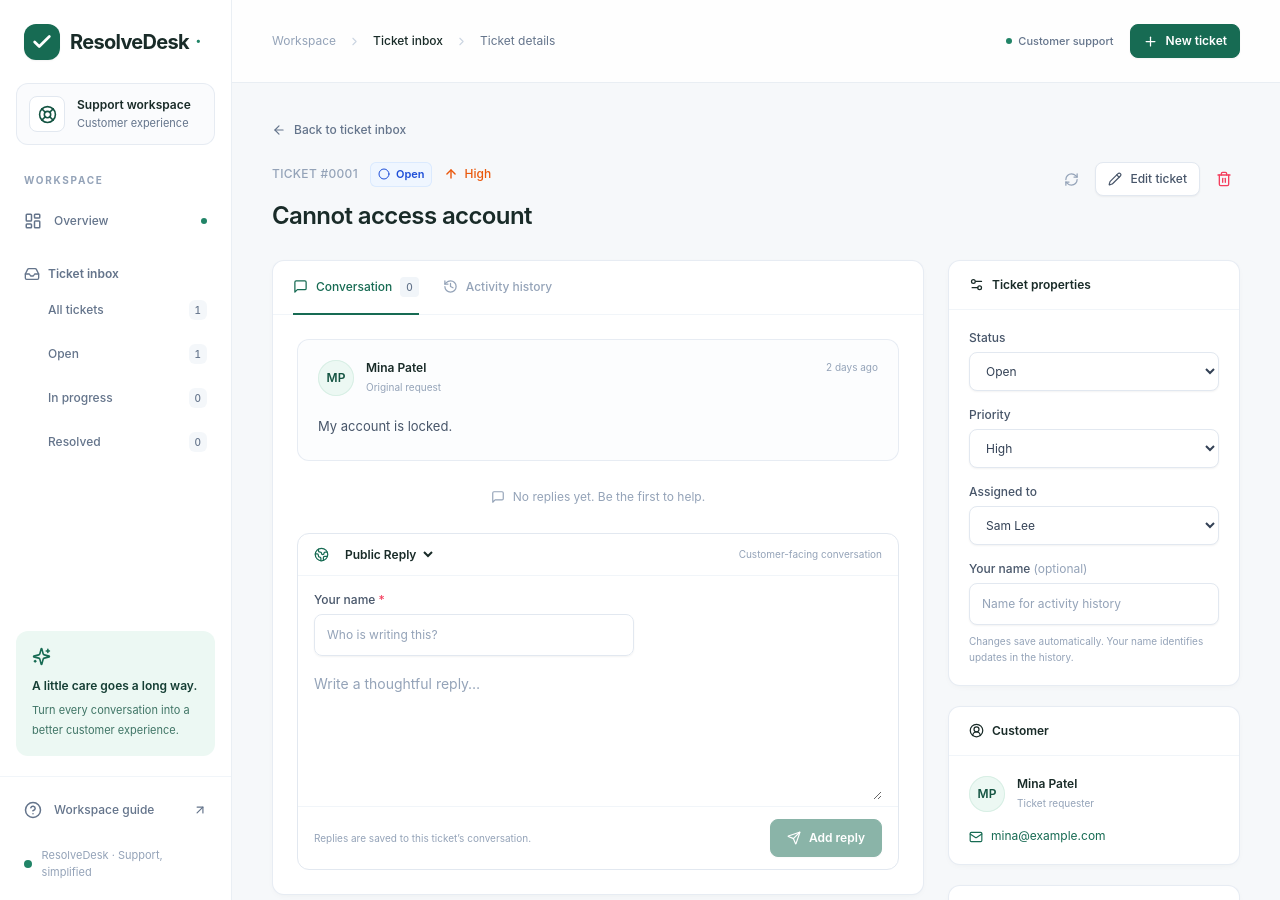
Test case: workspace workflows › shows chronological activity history with actor attribution
Expected: the heading "Cannot access account" is shown, top-left (272, 200), bottom-right (532, 230)
Click the tab "Activity history" at (498, 288), box top-left (443, 260), bottom-right (552, 314)
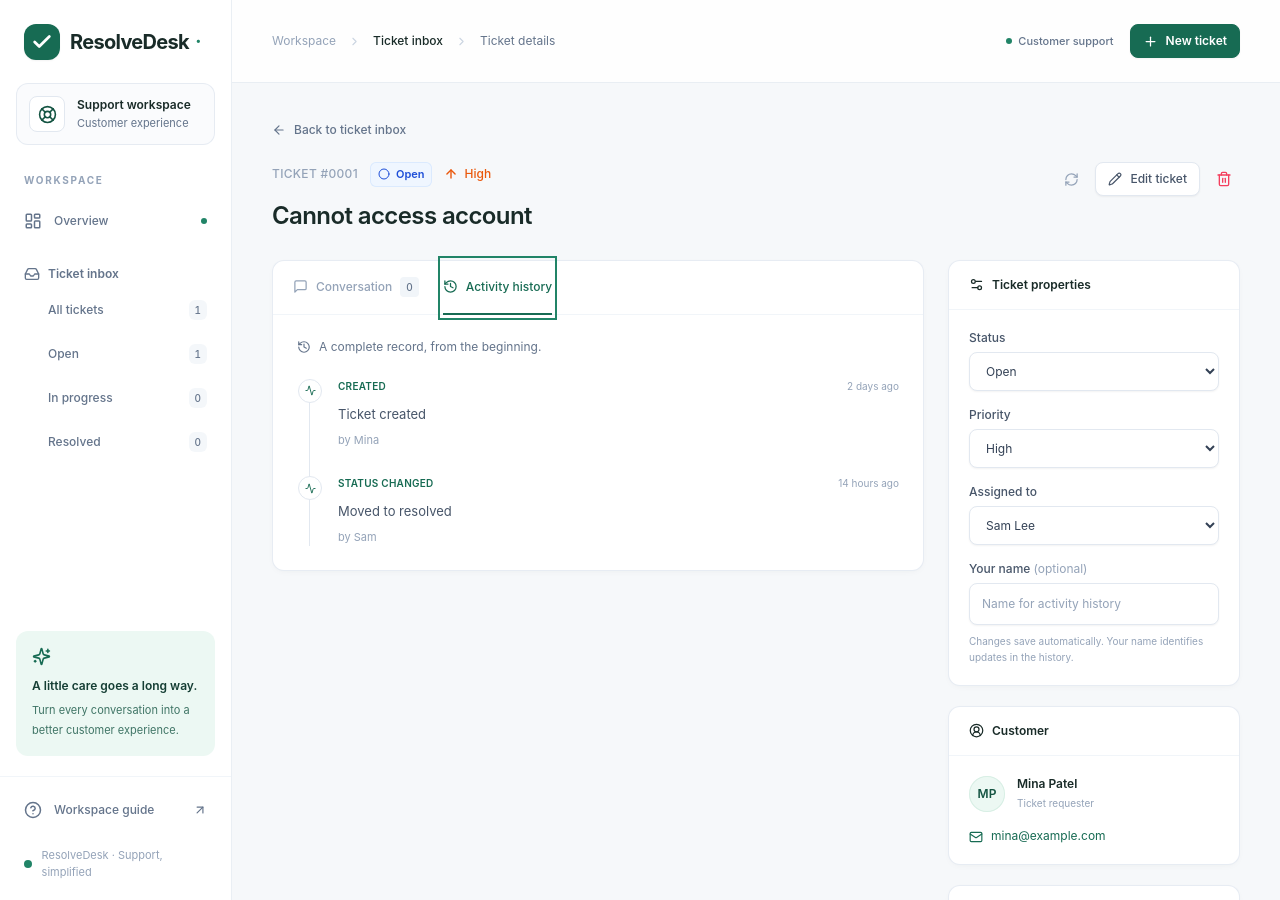
Expected: the list item that starts with "created" shows "Ticket created", top-left (338, 406), bottom-right (426, 422)
Expected: the list item that starts with "status changed" shows "by Sam", top-left (310, 476), bottom-right (899, 546)
